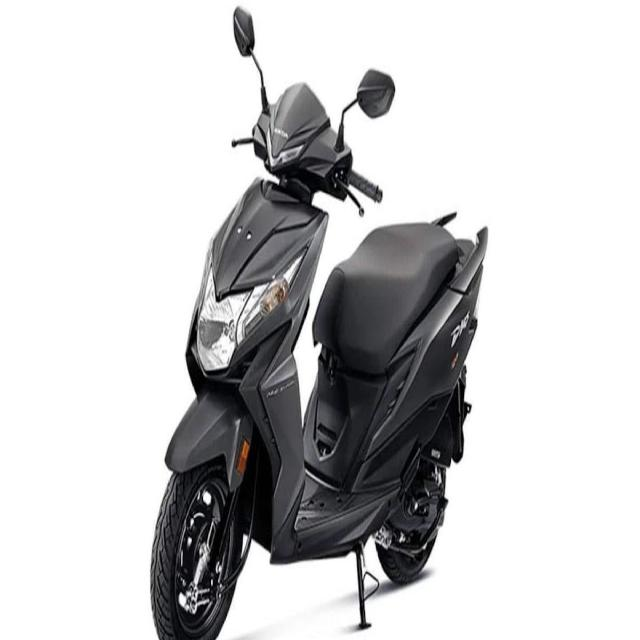motorcycle: (152, 25, 482, 640)
